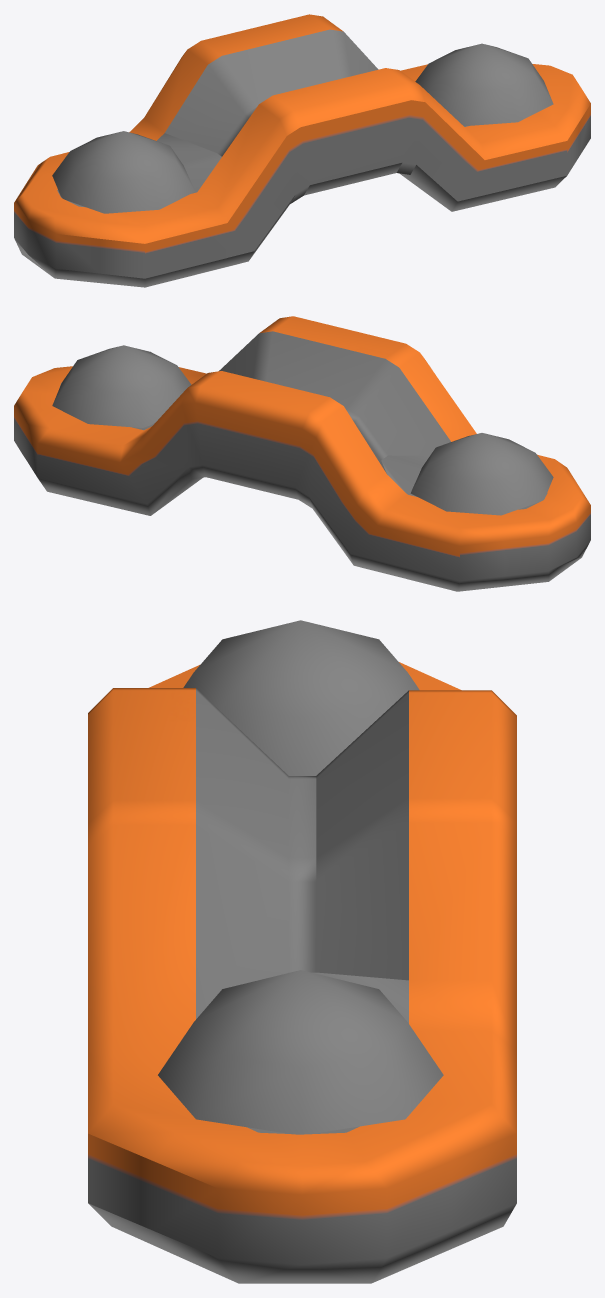
The model's file is pedestal_joint.fbx.
The picture shows the model from 3 angles, top to bottom: view 1: azimuth 30°, elevation 25°; view 2: azimuth 150°, elevation 25°; view 3: azimuth 270°, elevation 25°; orthographic projection. The views are drawn at different scales.
Parts seen in each view (by area): view 1: pedestal_joint; view 2: pedestal_joint; view 3: pedestal_joint.
Part boxes in pixels (x1,y1,x2,y2): pedestal_joint: (14,14,590,287); pedestal_joint: (14,316,590,591); pedestal_joint: (88,620,516,1283).
Size of the model in its own units: 72.81 by 17.83 by 24.68.
